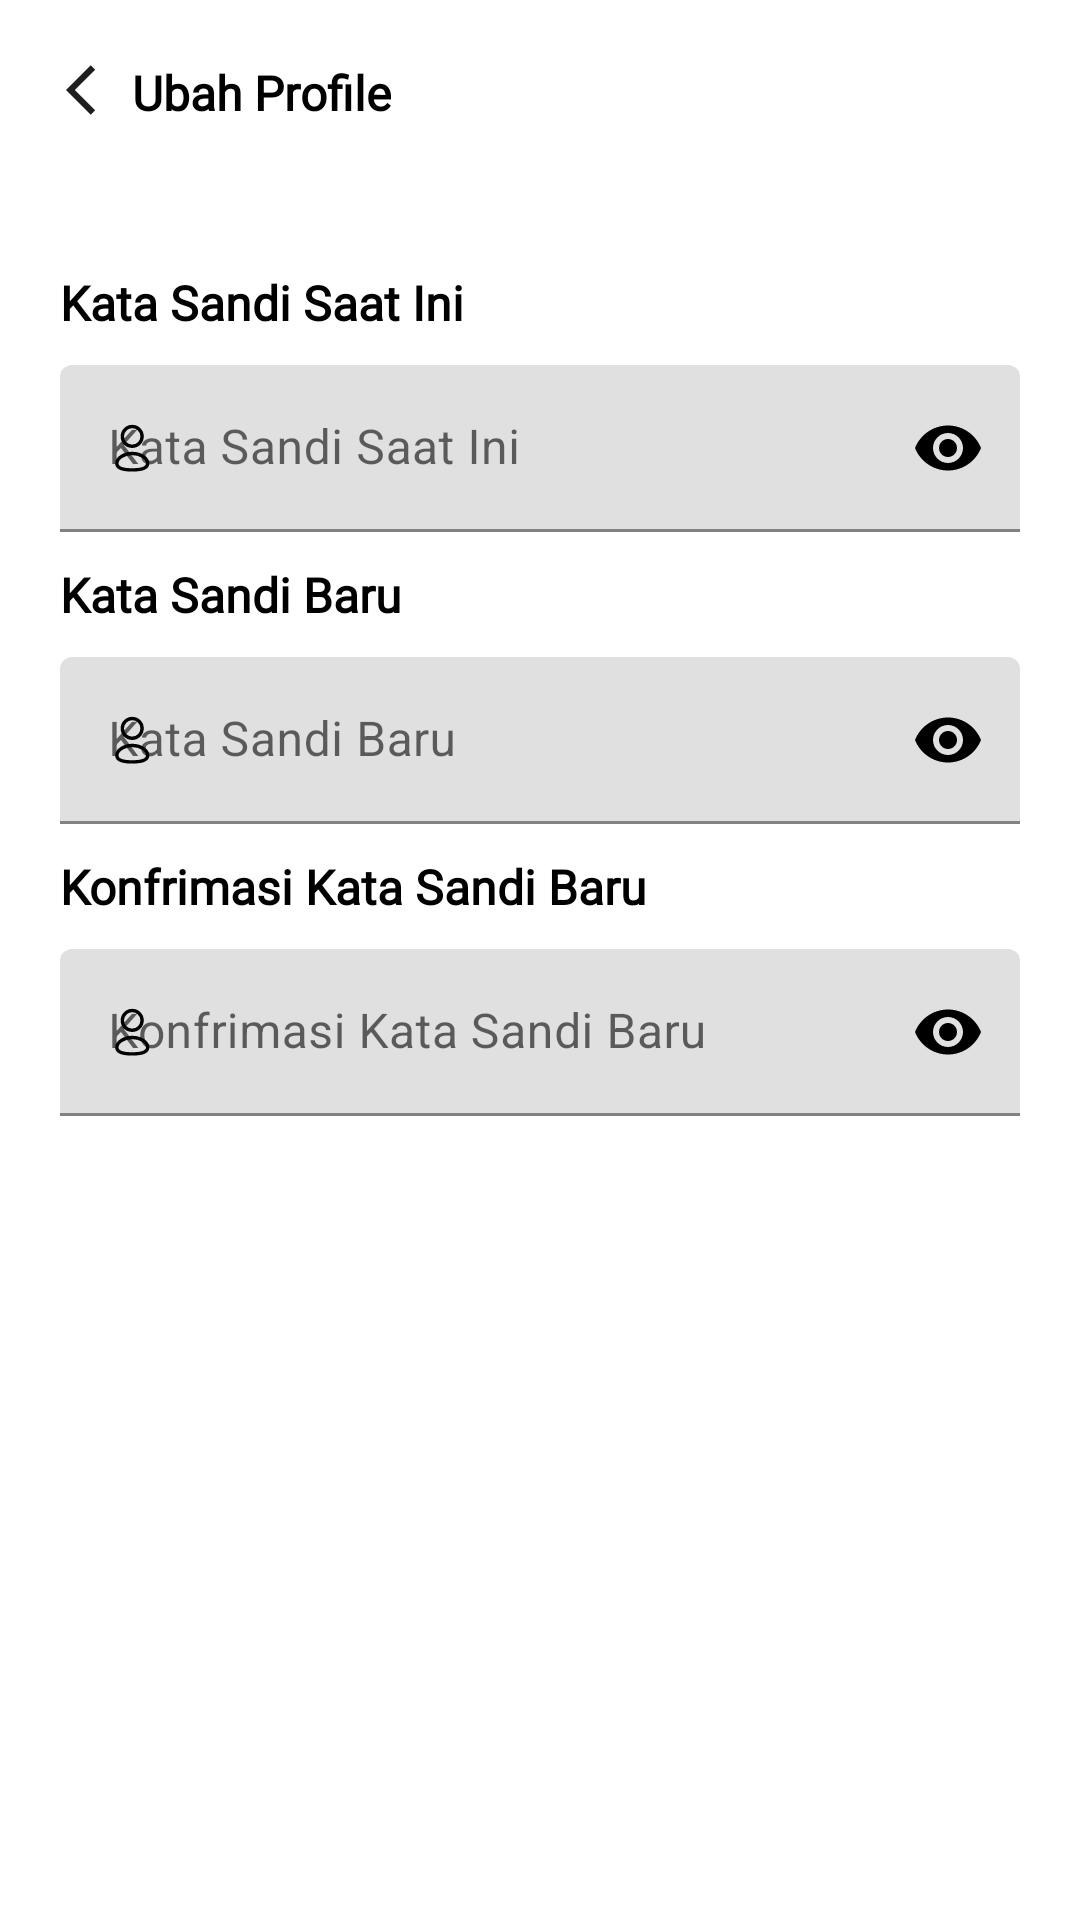

Screen size 1080px x 1920px. Icon name, then its box in pixels as (x1, y1, x2, y2):
back: (66, 65, 95, 115)
